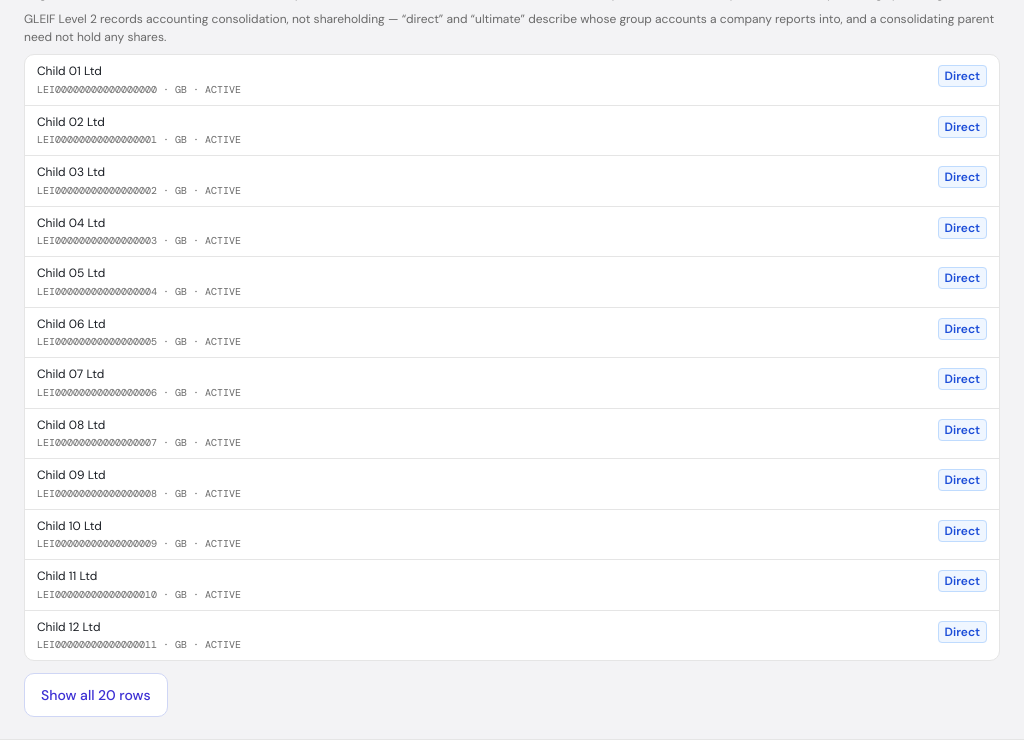
Scenario: the rows › collapses the GLEIF network to twelve rows like the declared lists
The width and height of the screenshot is (1024, 740).
(page scrolled)
Expected: the link "Child 01 Ltd" is shown, [37, 63, 102, 79]
Expected: the link "Child 12 Ltd" is shown, [37, 619, 100, 635]
Click the button "Show all 20 rows" at coordinates (96, 695), box [24, 673, 168, 717]
(page scrolled)
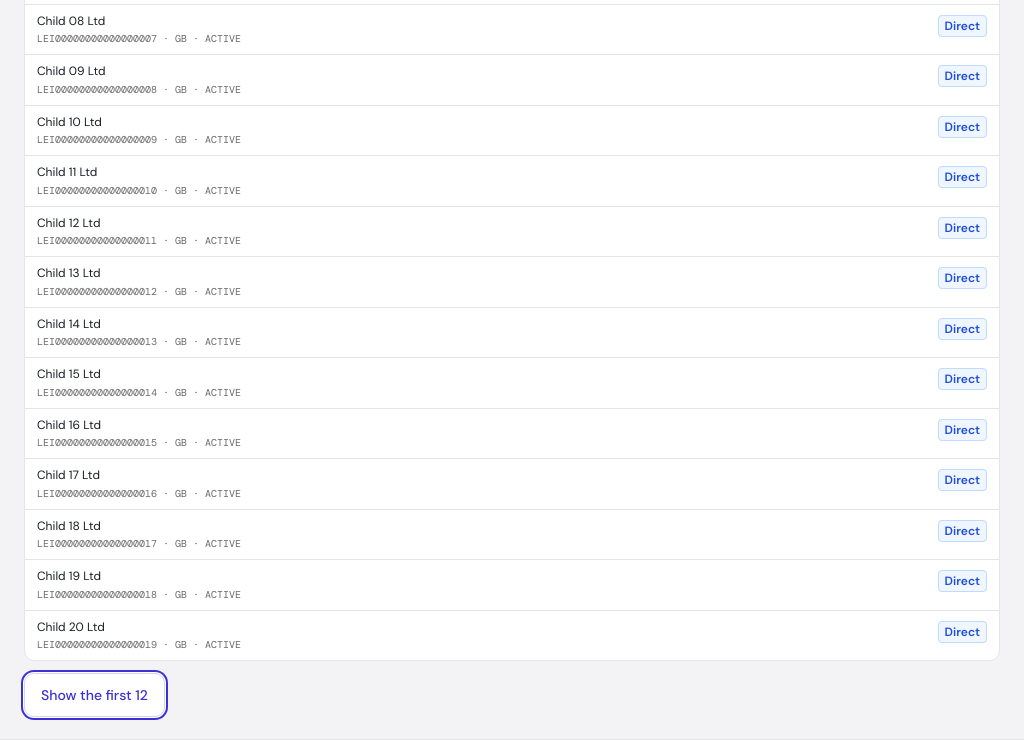
Expected: the link "Child 20 Ltd" is shown, [37, 619, 105, 635]
